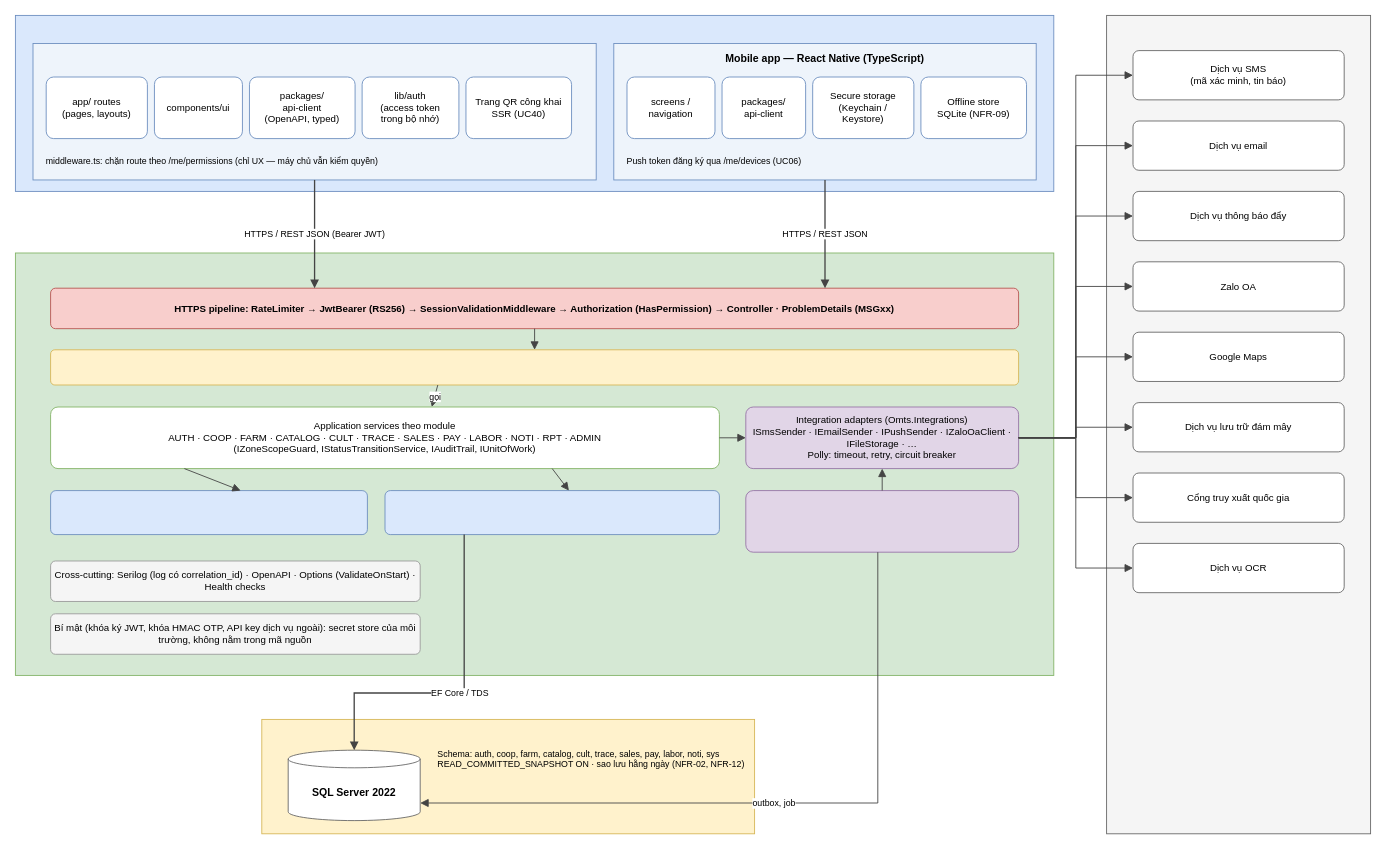
This 1386x849 diagram has some shape labels left out. The shapes that lost their labels are listed below. From the top down, each one's box as (x1, y1, x2, y2) in pixels, then its label:
(32, 43, 596, 180): Web app — Next.js 14 (App Router · TypeScript)
(15, 15, 1054, 191): Client Tier
(50, 349, 1019, 385): Controllers (Api) — /api/v1/… · DTO + FluentValidation
(1106, 15, 1371, 834): External Services
(15, 252, 1054, 675): Application Tier — .NET 8 · ASP.NET Core Web API (modular monolith)
(50, 490, 367, 535): Domain model (entity, value object, quy tắc)
(384, 490, 719, 535): Repository — EF Core 8 (OmtsDbContext, schema theo module)
(745, 490, 1019, 552): Omts.Worker (BackgroundService) JOB-01…07 · Outbox dispatcher
(261, 719, 755, 834): Data Tier
